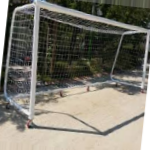goals: (4, 1, 150, 122)
